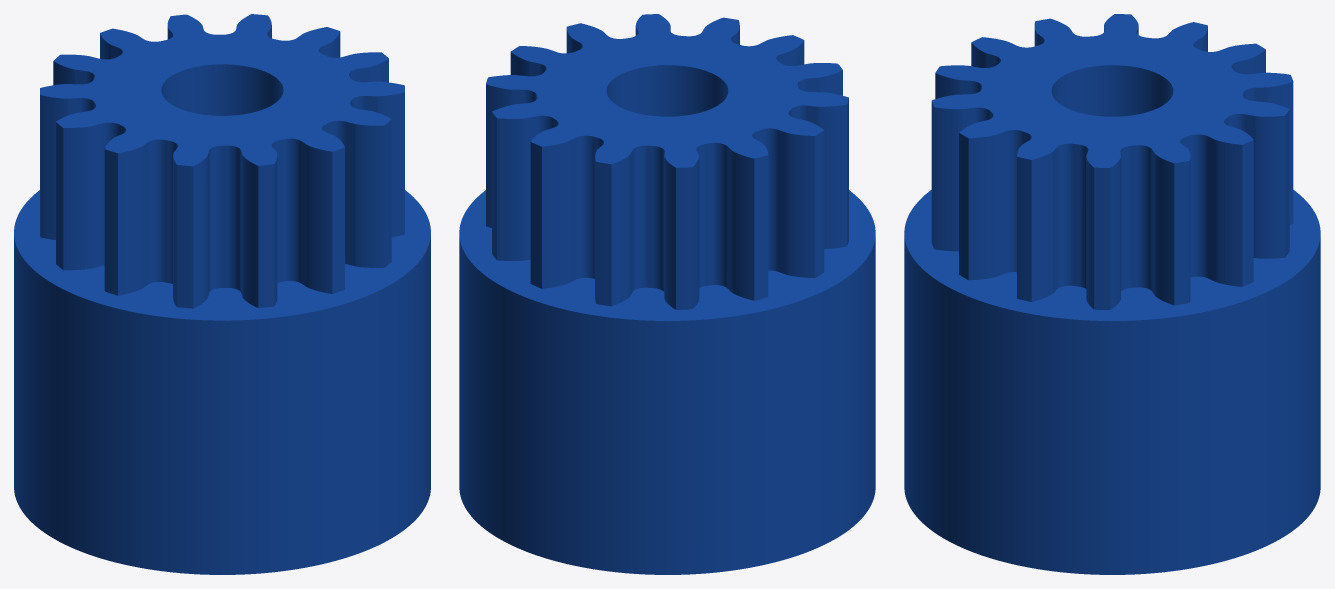
File: Assembly 2 - Gripper gear.obj
3 renders of one model, left to right at view 1: azimuth 30°, elevation 25°; view 2: azimuth 150°, elevation 25°; view 3: azimuth 270°, elevation 25°, orthographic.
Parts seen in each view (by area): view 1: mesh4, mesh16, mesh15, mesh5, mesh28, mesh66, mesh58, mesh36, mesh62, mesh40, mesh20, mesh43 (+20 smaller); view 2: mesh4, mesh16, mesh15, mesh5, mesh26, mesh100, mesh108, mesh34, mesh18, mesh116, mesh112, mesh22 (+19 smaller); view 3: mesh4, mesh16, mesh15, mesh5, mesh106, mesh68, mesh98, mesh60, mesh76, mesh90, mesh102, mesh80 (+19 smaller).
Boxes of the visible parts, x1,y1,x2,y2 form: mesh4: (14, 235, 430, 574); mesh16: (40, 14, 404, 166); mesh15: (14, 190, 430, 320); mesh5: (161, 64, 283, 115); mesh28: (63, 126, 92, 270); mesh66: (355, 124, 384, 267); mesh58: (307, 145, 332, 293); mesh36: (118, 146, 142, 295); mesh62: (283, 138, 301, 282); mesh40: (148, 139, 165, 284); mesh20: (40, 95, 68, 239); mesh43: (177, 165, 193, 308); mesh4: (459, 236, 875, 574); mesh16: (486, 14, 848, 167); mesh15: (459, 190, 875, 320); mesh5: (606, 65, 728, 116); mesh26: (786, 132, 815, 277); mesh100: (497, 118, 526, 260); mesh108: (542, 141, 568, 288); mesh34: (817, 104, 846, 248); mesh18: (731, 150, 754, 300); mesh116: (611, 154, 630, 305); mesh112: (575, 135, 593, 279); mesh22: (710, 143, 727, 287); mesh4: (904, 236, 1320, 574); mesh16: (931, 14, 1293, 167); mesh15: (904, 190, 1320, 320); mesh5: (1051, 65, 1173, 116); mesh106: (1255, 115, 1284, 258); mesh68: (968, 134, 997, 280); mesh98: (1215, 140, 1242, 286); mesh60: (934, 107, 963, 251); mesh76: (1031, 151, 1053, 301); mesh90: (1155, 154, 1174, 305); mesh102: (1190, 134, 1208, 277); mesh80: (1057, 143, 1073, 288).
Bounding box in the file's own units: 0.0205 × 0.0215 × 0.0205.
